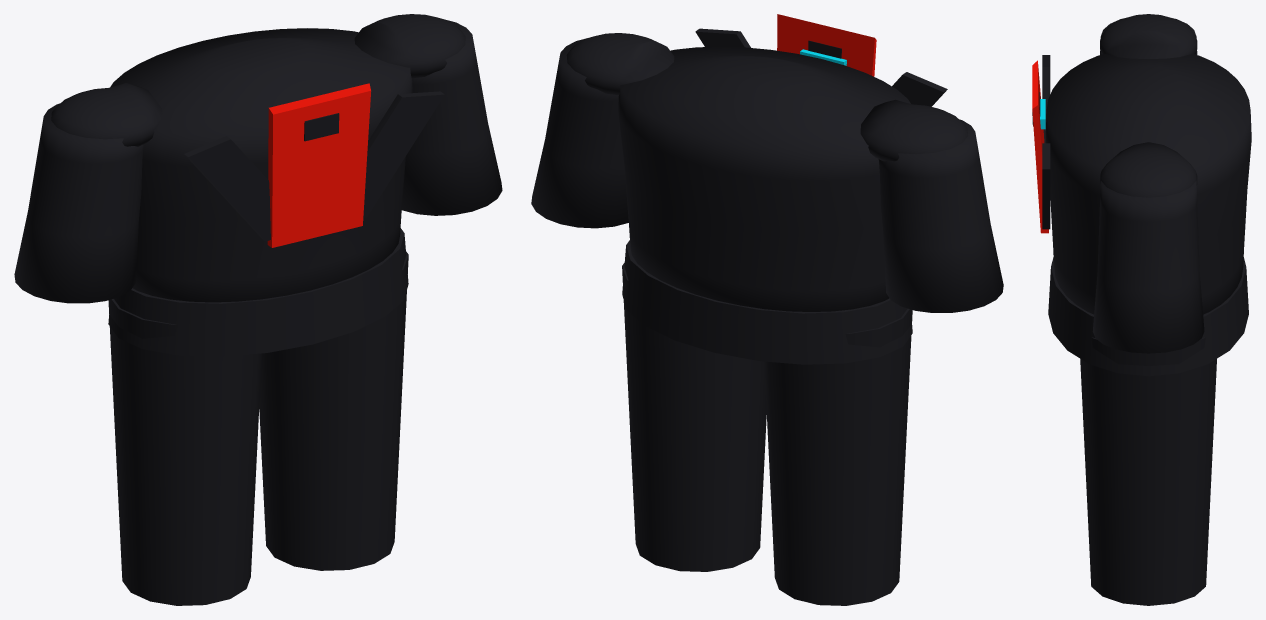
File: suit_cool_0.glb
3 renders of one model, left to right at view 1: azimuth 30°, elevation 25°; view 2: azimuth 150°, elevation 25°; view 3: azimuth 270°, elevation 25°, orthographic. The views are drawn at different scales.
Size of the model in its own units: 0.6992 by 0.7219 by 0.3081.
